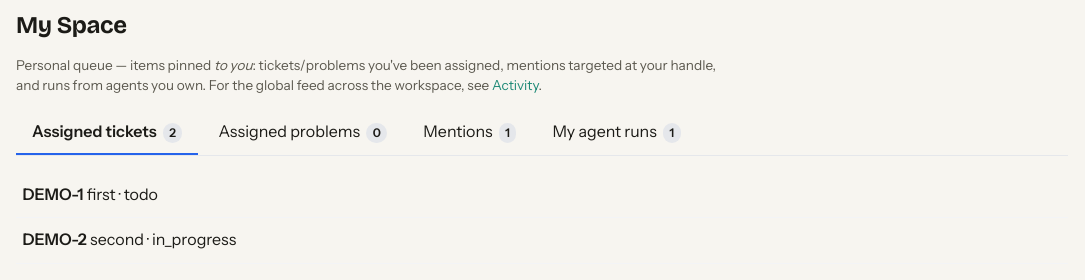
Scenario: MeSpacePage › clicking each tab swaps the rendered list
Expected: the list with test id "list-assigned_tickets" is shown, [16,172,1068,264]
Step 1. Click the tab "Mentions 1" → (470, 133), box [407,111,532,155]
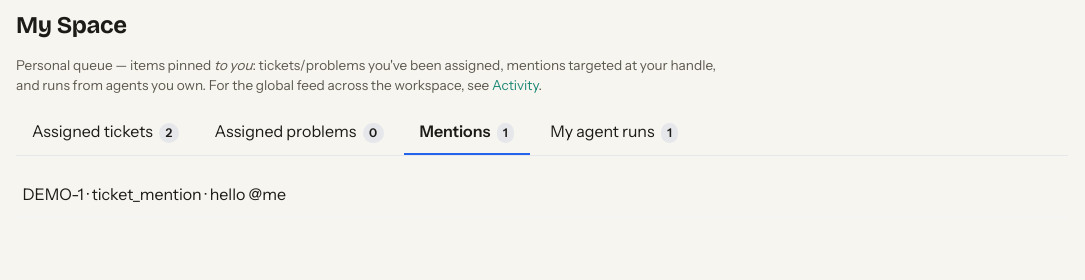
Expected: the list with test id "list-mentions" is shown, [16,172,1068,218]
Expected: the list with test id "list-assigned_tickets" is gone
Note: My agent runs.
Step 2. Click the tab "My agent runs 1" → (614, 133), box [534,111,694,155]
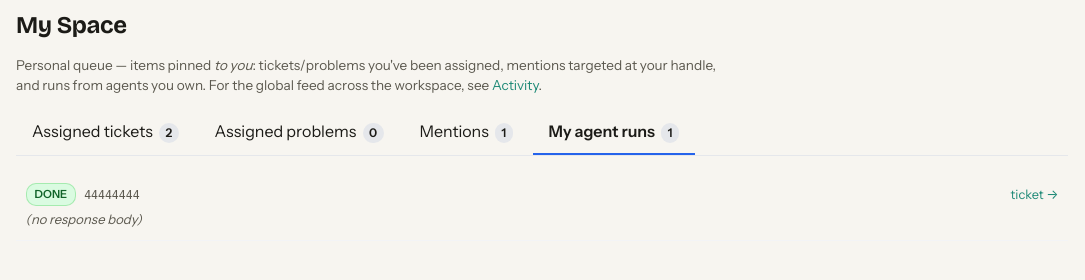
Expected: the list with test id "list-my_agent_runs" is shown, [16,172,1068,241]
Expected: the list with test id "list-mentions" is gone
Note: Assigned problems — empty state.
Step 3. Click the tab "Assigned problems 0" → (299, 133), box [199,111,400,155]
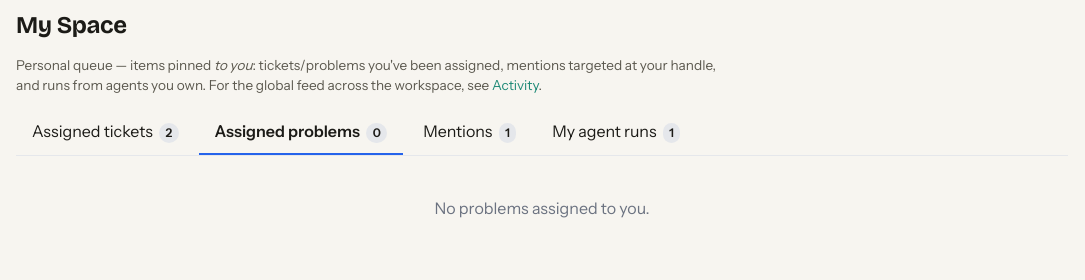
Expected: the text "No problems assigned to you." is shown, [434,198,650,218]
